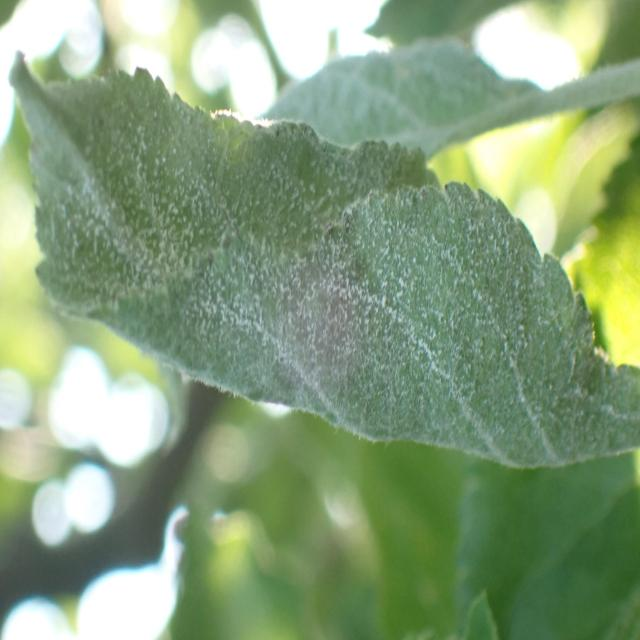Powdery_mildew: (4, 37, 640, 511), (251, 23, 640, 188)
